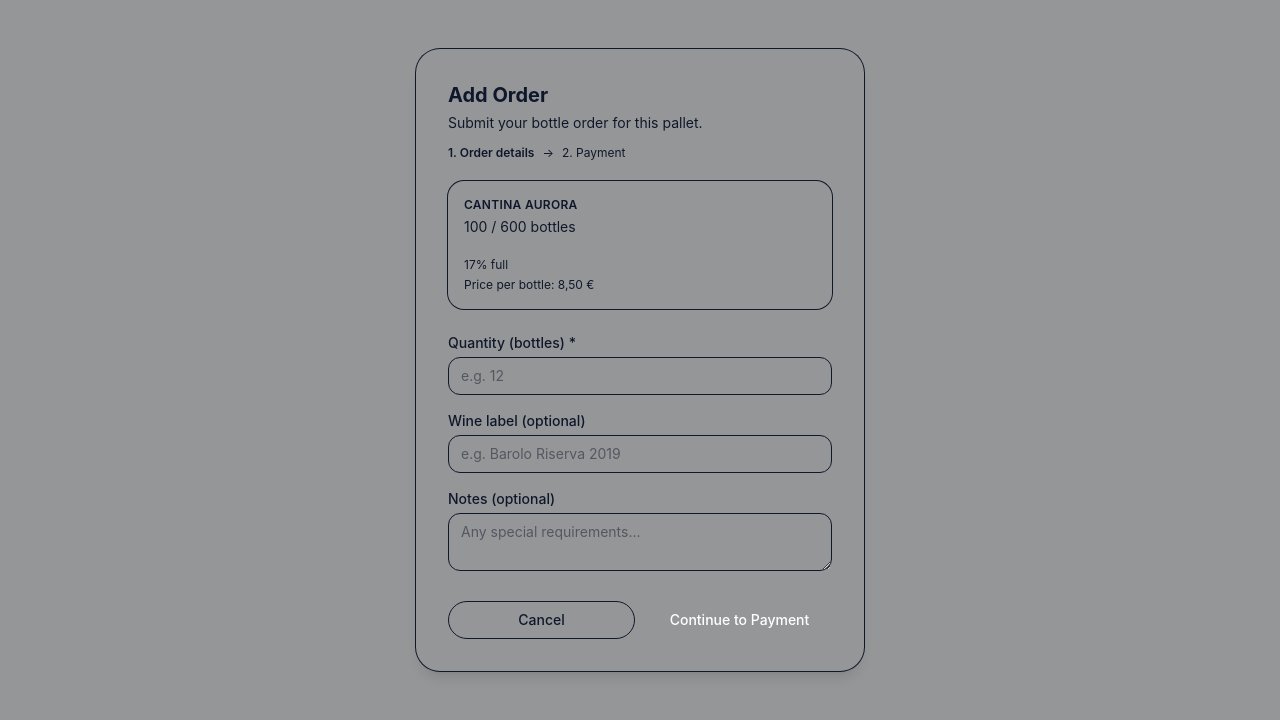
Test: AddOrderModal › shows error and stays on step 1 when PaymentIntent creation fails
The image size is (1280, 720).
Type "6" into the number field labelled "Quantity (bottles) *" at [640, 376], box x1=448 y1=357 x2=832 y2=395
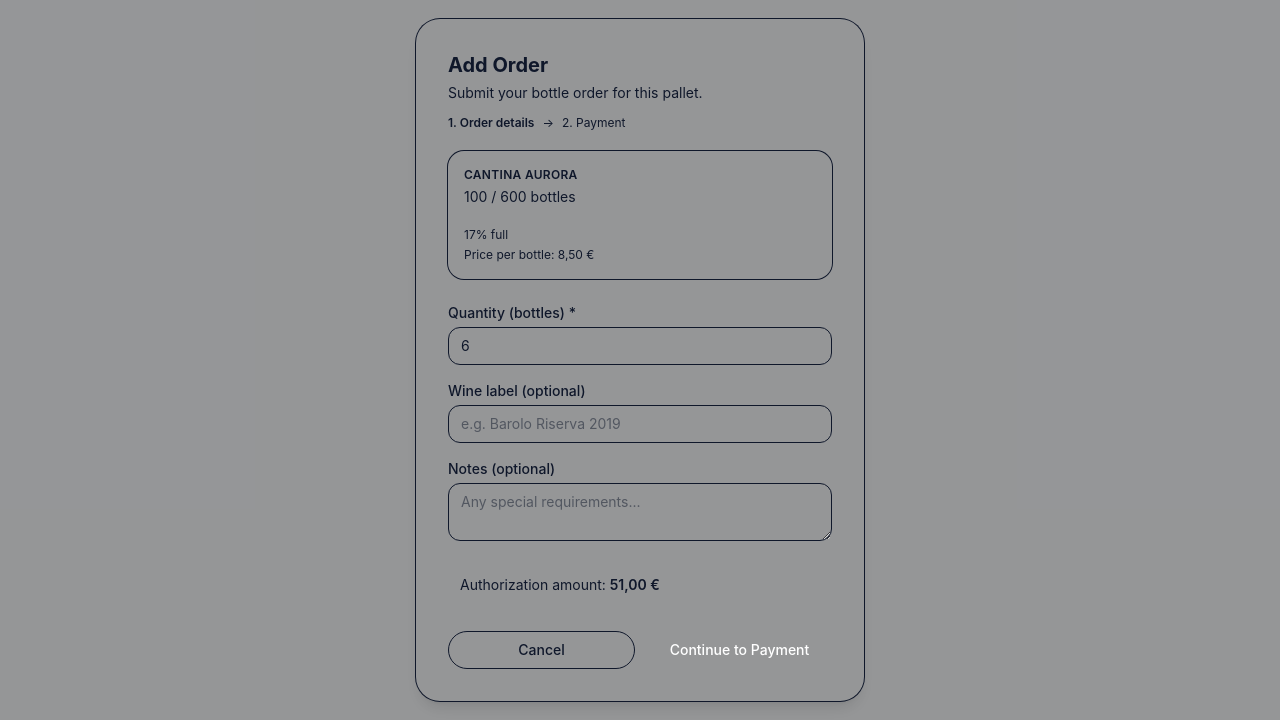
Click the button "Continue to Payment" at [740, 650], box x1=647 y1=631 x2=832 y2=669
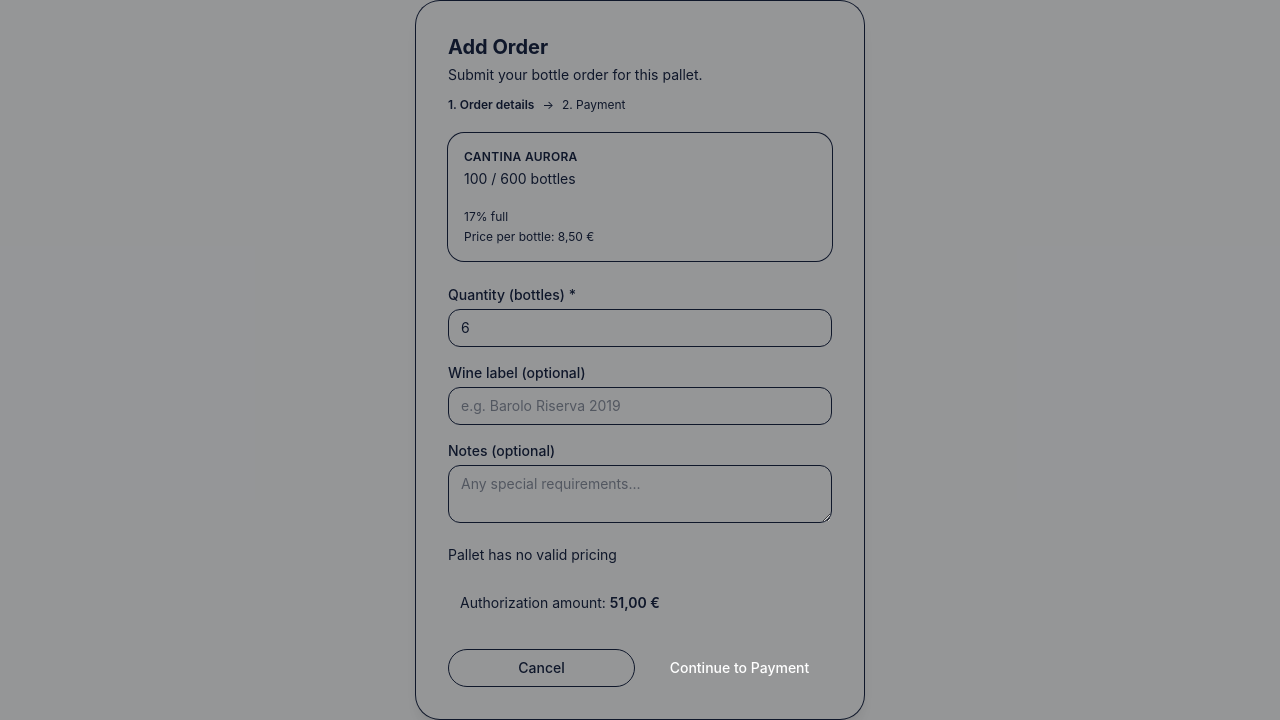
Expected: the message shows "no valid pricing", x1=448 y1=546 x2=617 y2=563
